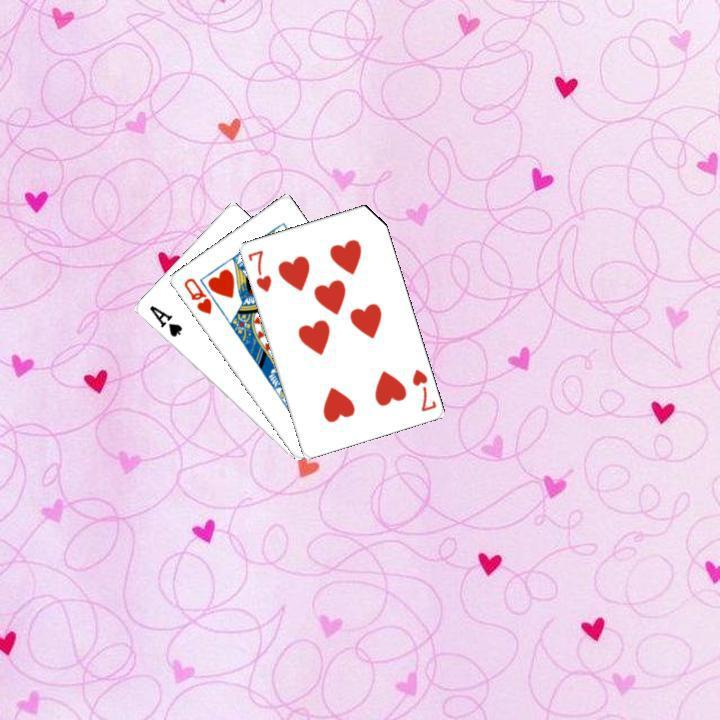7: (407, 365, 438, 414), (243, 245, 273, 294)
A: (144, 301, 184, 339)
Q: (179, 273, 214, 316)
